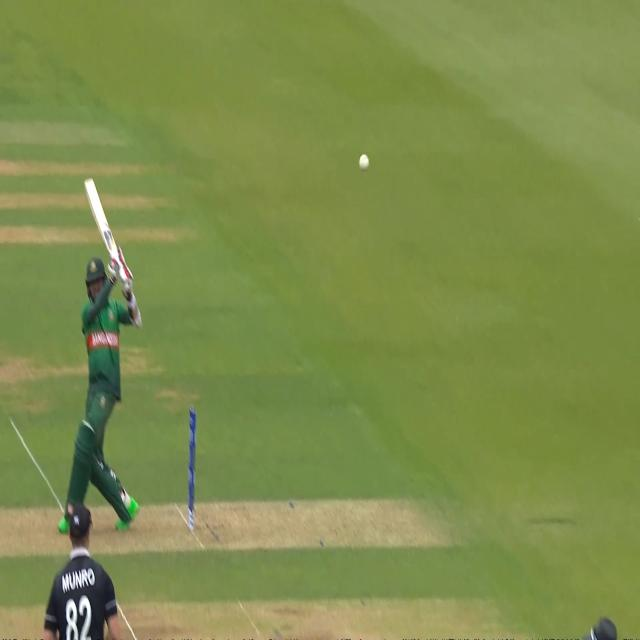ball: (355, 147, 371, 178)
